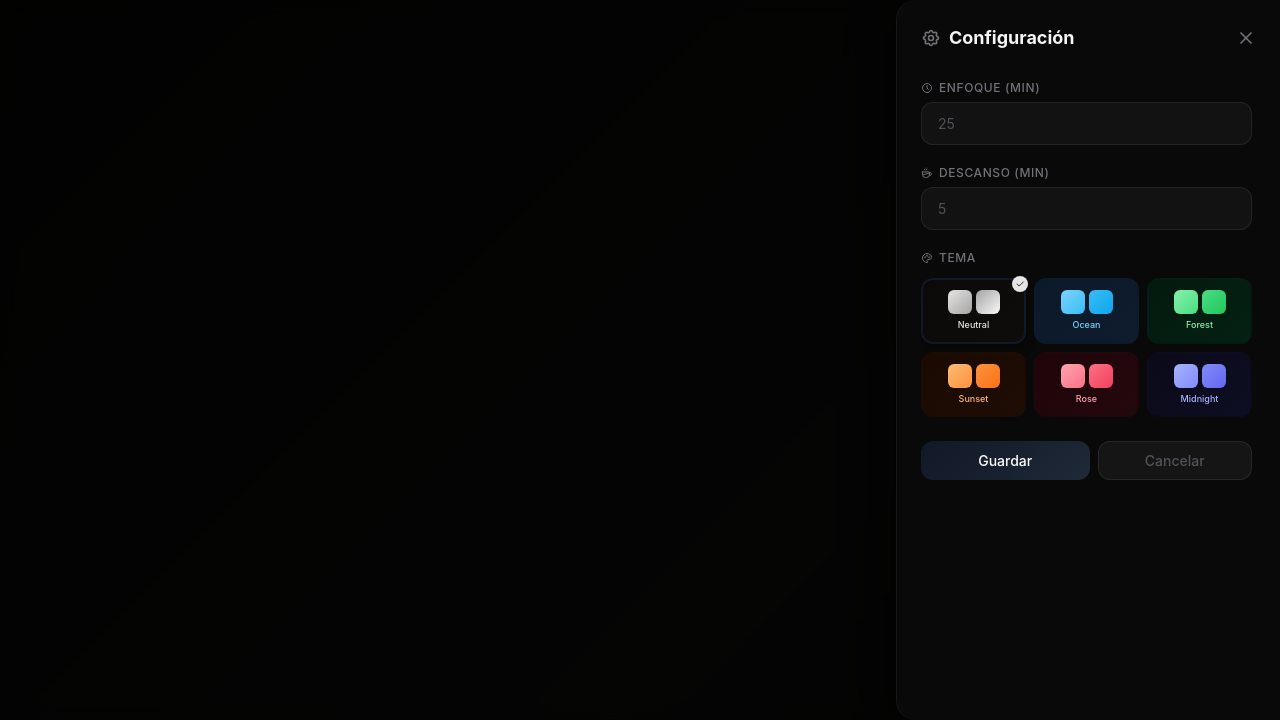
it: Panels presented as drawers › SettingsPanel treats a theme change as unsaved and blocks passive close
Click the button "Ocean" at point(1086, 311), box [1034,278,1139,344]
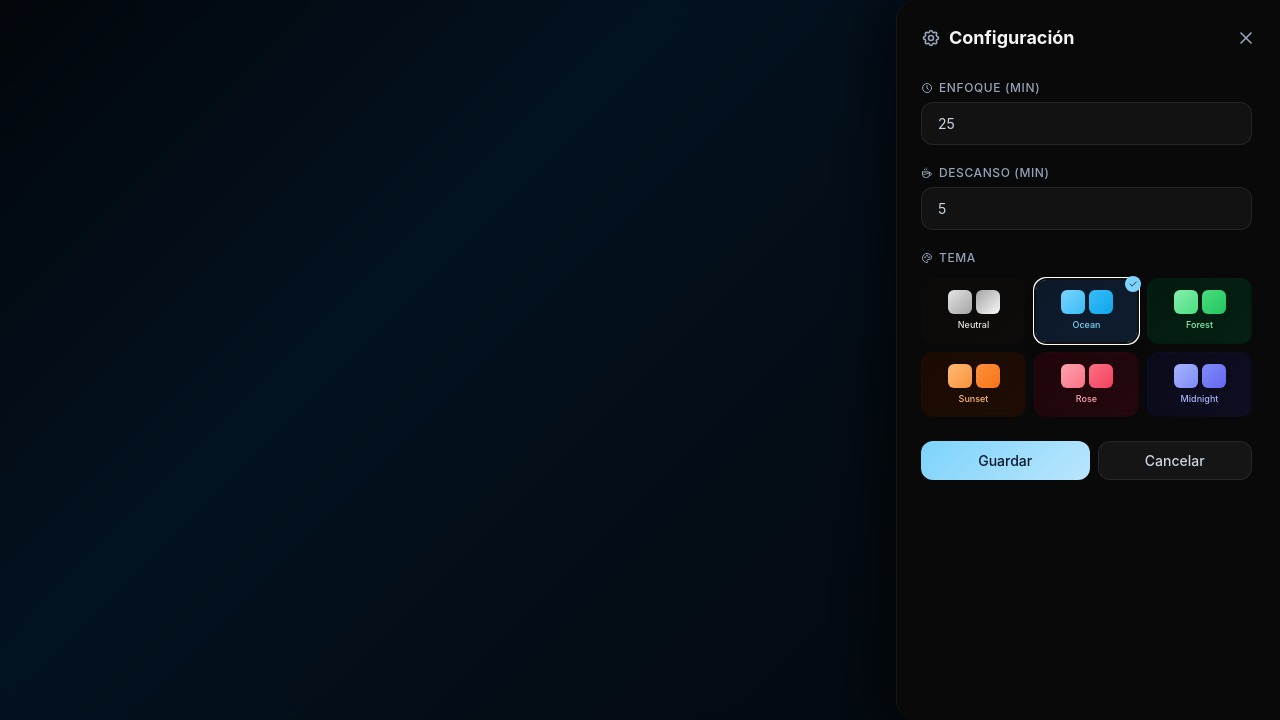
Note: Escape must not close the drawer after a live theme change.
Press Escape
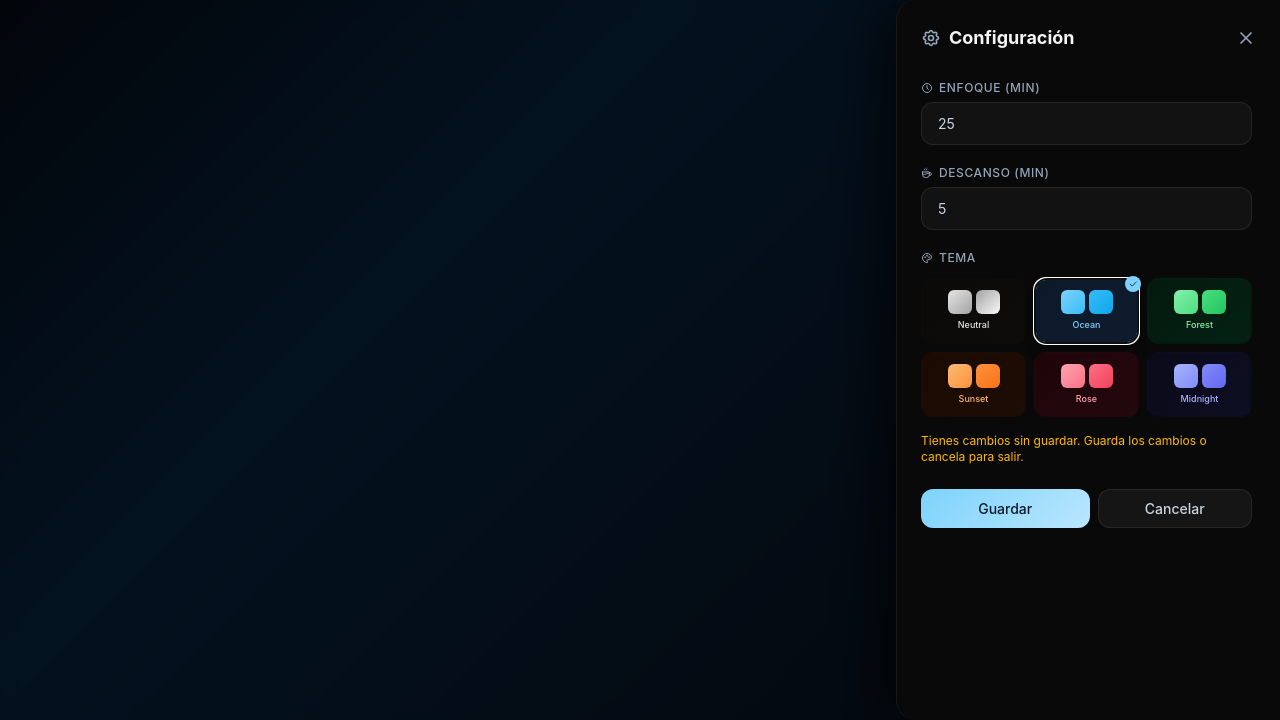
Result: the message shows "cambios sin guardar" at [921,433,1207,464]
